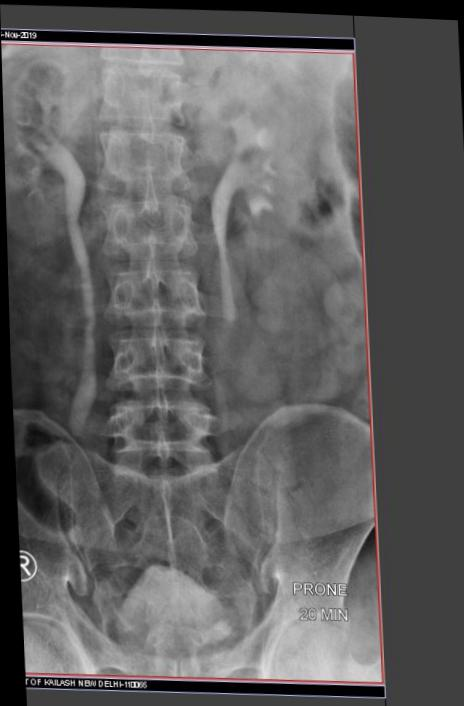bladder: (86, 544, 243, 656)
left kidney: (191, 58, 344, 250)
right kidney: (1, 44, 101, 255)
vertebrae: (92, 127, 193, 193)
